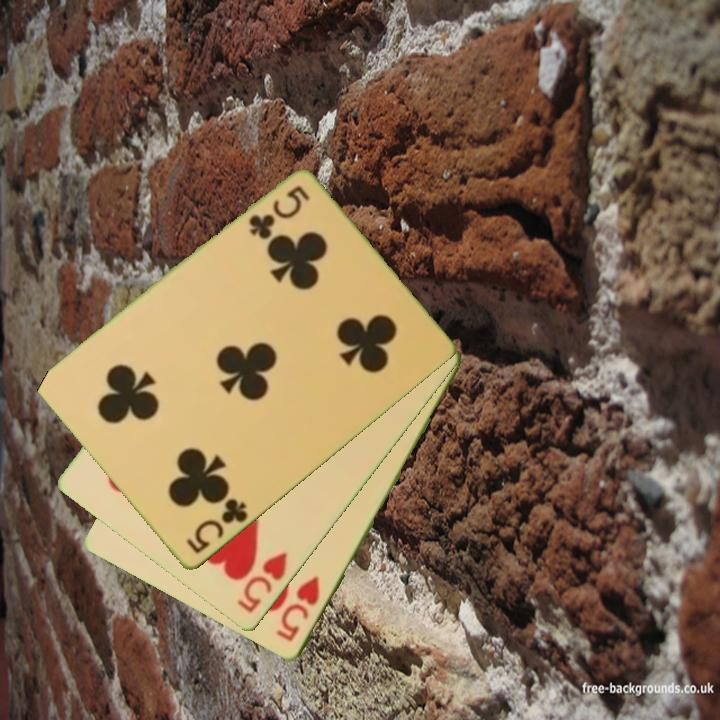5c: (182, 495, 251, 557), (245, 182, 313, 242)
5h: (233, 548, 290, 617), (272, 572, 323, 646)
